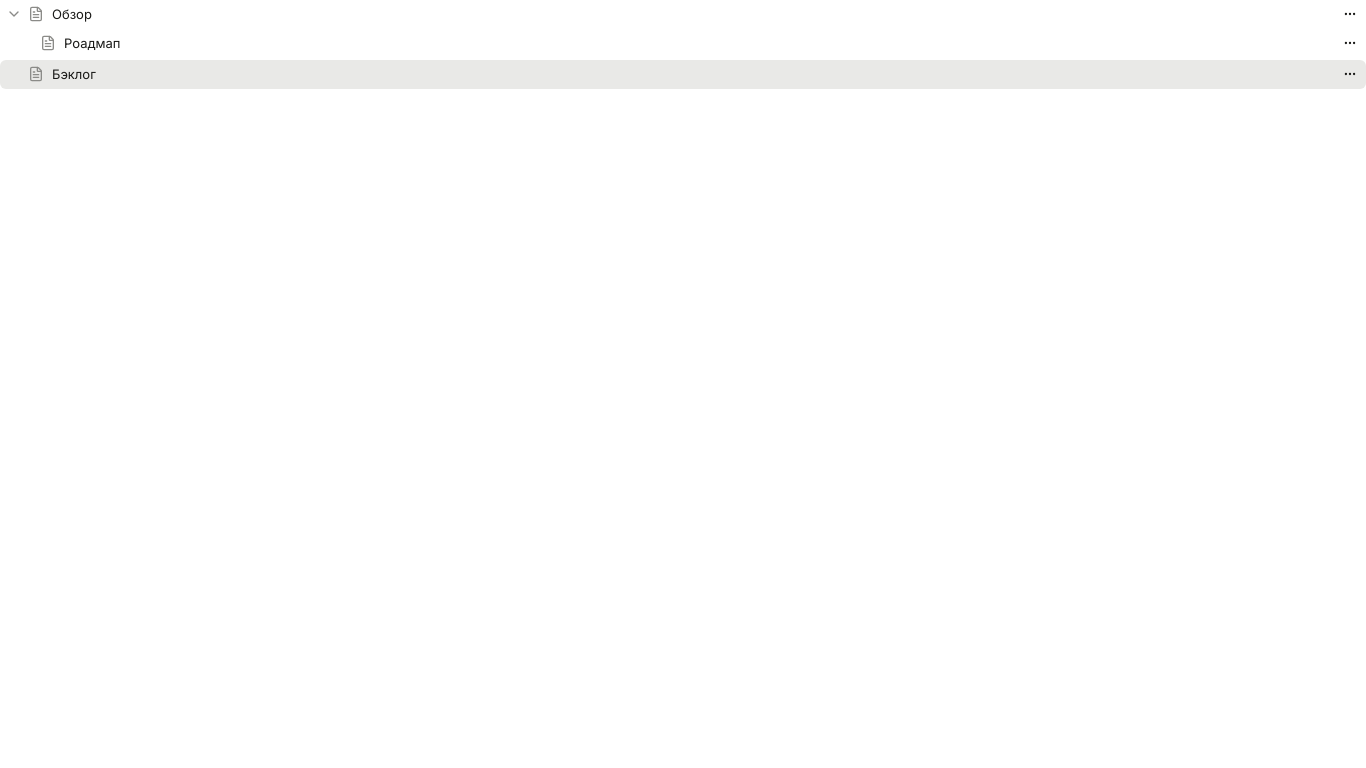
PageTree actions › открывает подтверждение удаления вложенной страницы и отменяет без запроса
Click the button named "Действия для «Роадмап»".
click(1350, 43)  # box [1338,31,1362,55]
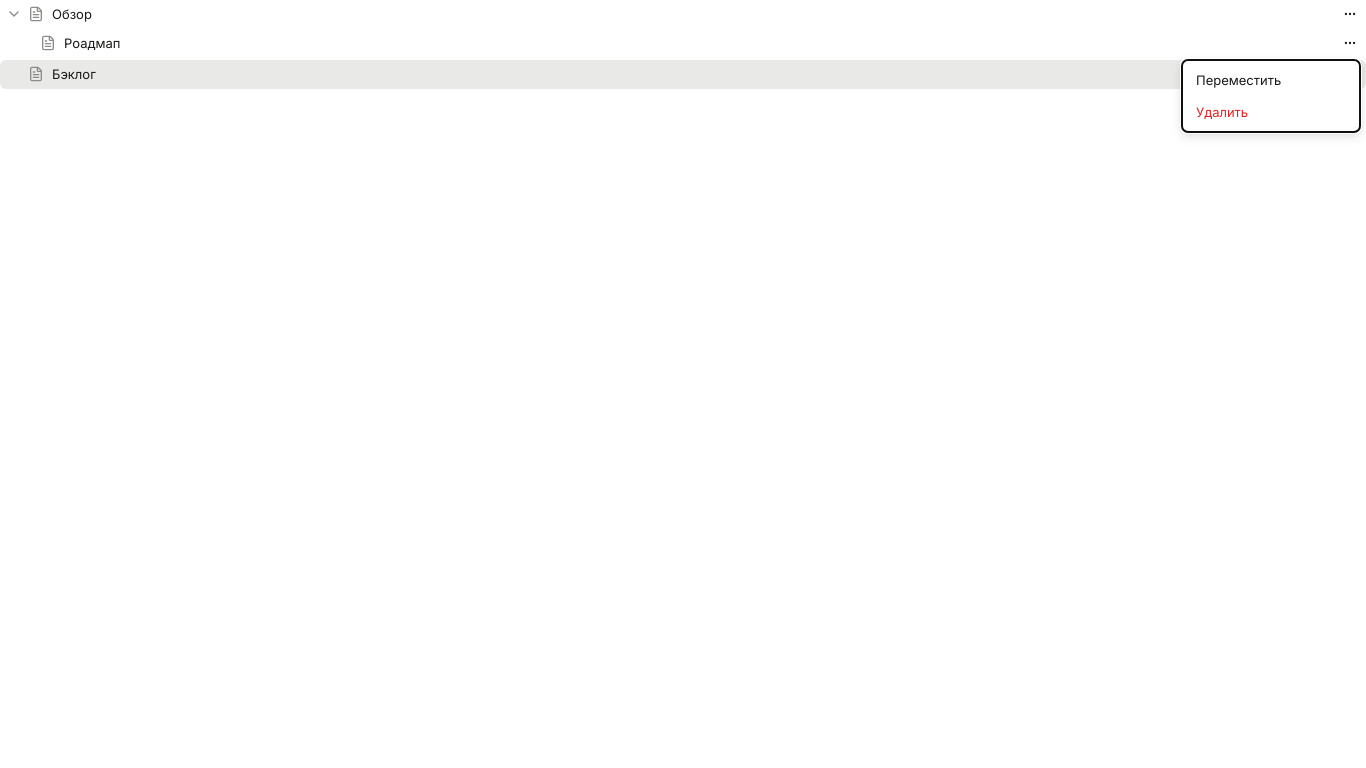
Click the menu item "Удалить".
click(1222, 112)  # box [1196,104,1248,120]
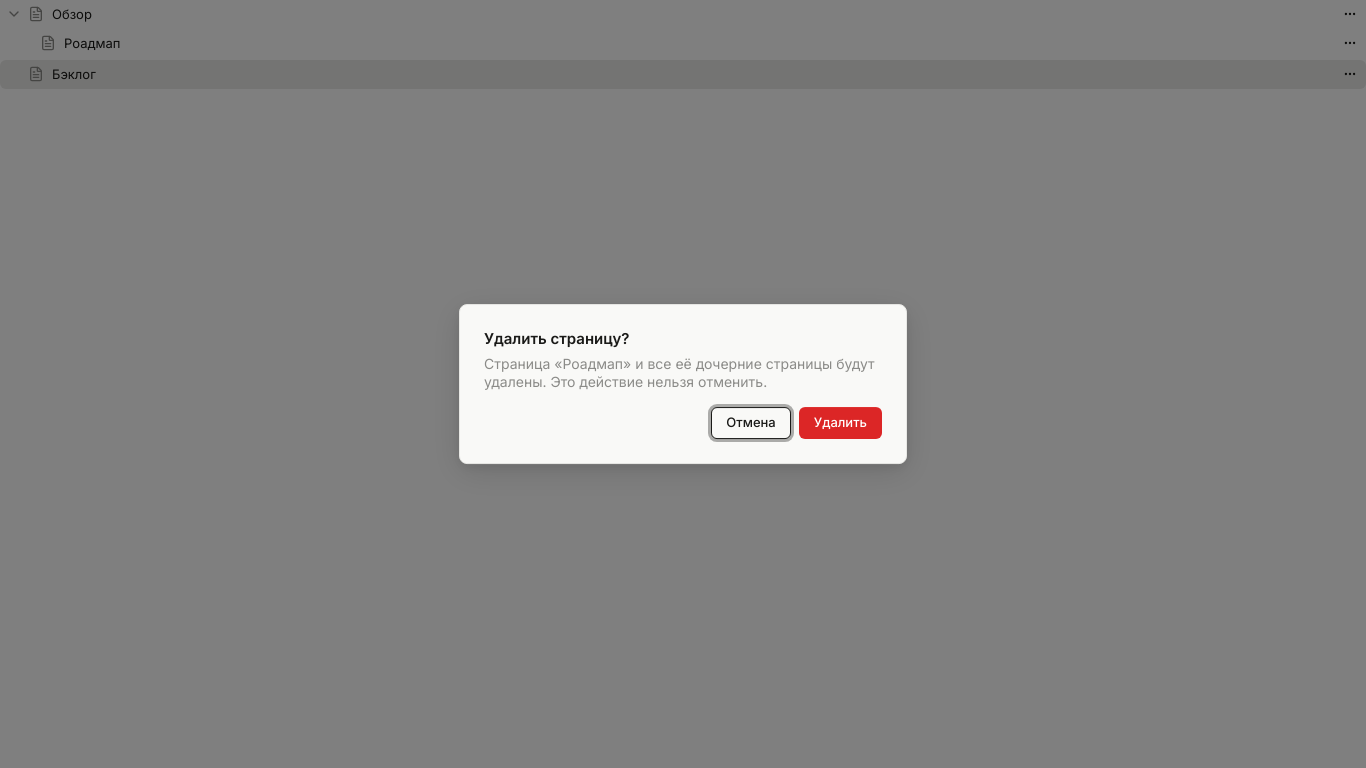
Expected: the menu is gone
Expected: the dialog "Удалить страницу?" is shown, [459,304,907,464]
Expected: the dialog "Удалить страницу?" shows "Роадмап", [562,355,623,372]
Click the button "Отмена".
click(751, 423)  # box [711,407,791,439]
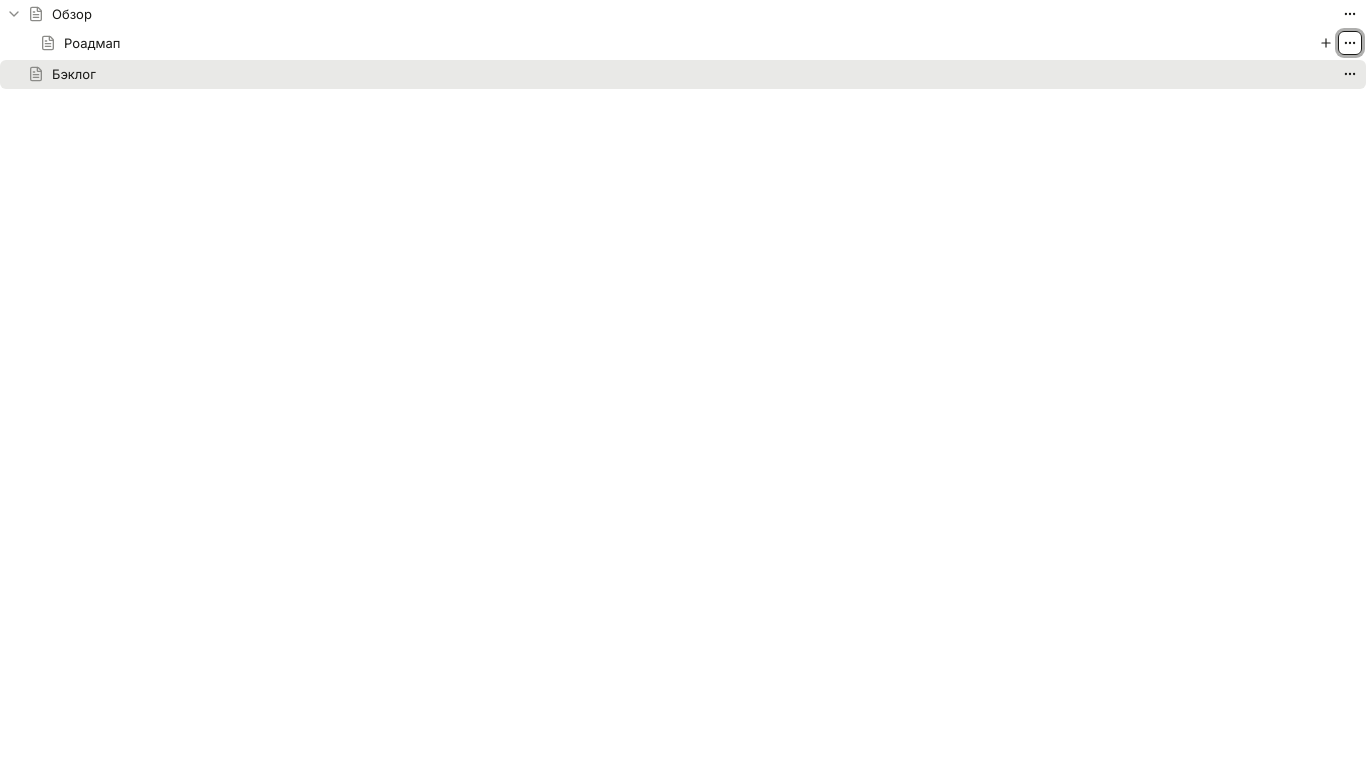
Expected: the dialog is gone
